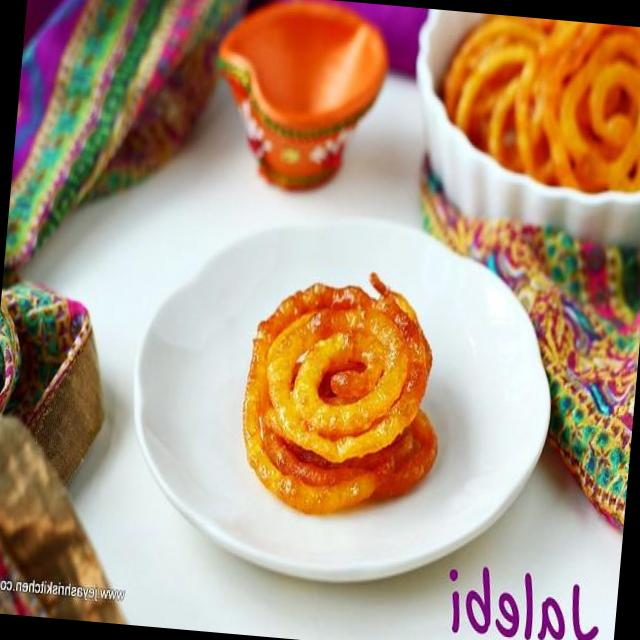jalebi: (211, 266, 457, 525), (422, 21, 640, 207)
